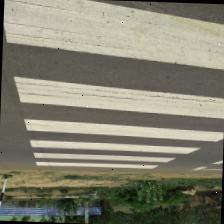crossing: (11, 75, 224, 118), (23, 119, 223, 142), (28, 139, 201, 154), (32, 151, 176, 163), (34, 160, 159, 170)
